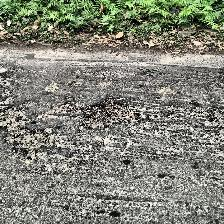pothole: (82, 98, 140, 130), (4, 128, 50, 152), (0, 107, 23, 127)
